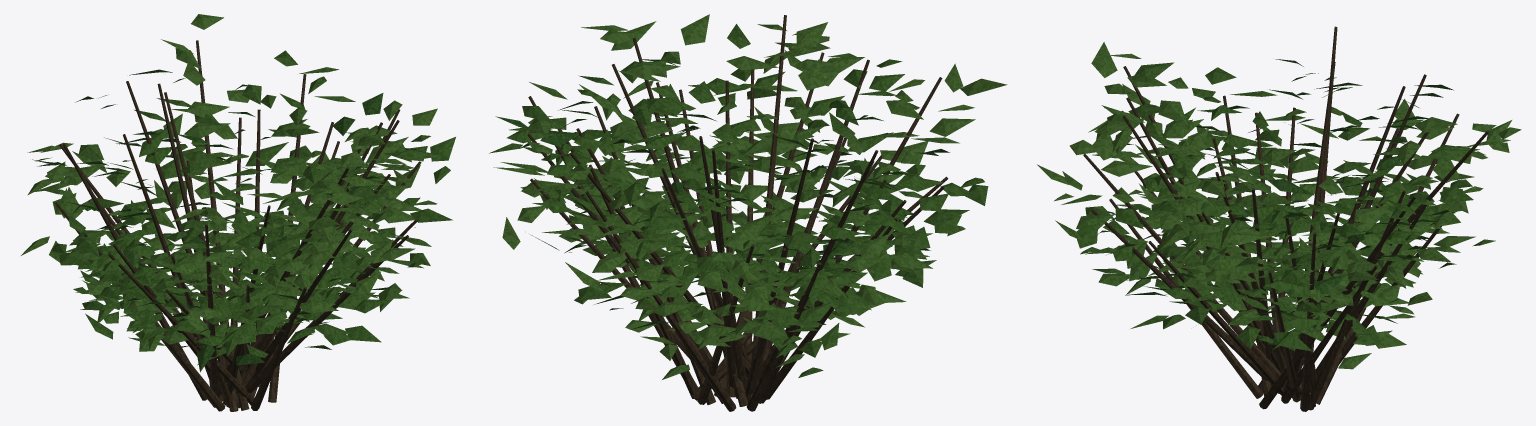
The model's file is level_camp_shrub_decorative_b.glb.
The picture shows the model from 3 angles, left to right: view 1: azimuth 30°, elevation 25°; view 2: azimuth 150°, elevation 25°; view 3: azimuth 270°, elevation 25°; orthographic projection. The views are drawn at different scales.
Visible parts, largest first — view 1: level_camp_shrub_decorative_b; view 2: level_camp_shrub_decorative_b; view 3: level_camp_shrub_decorative_b.
Boxes of the visible parts, bbox=[...] form: level_camp_shrub_decorative_b: bbox=[21, 14, 455, 411]; level_camp_shrub_decorative_b: bbox=[489, 14, 1007, 411]; level_camp_shrub_decorative_b: bbox=[1037, 26, 1521, 411].
Size of the model in its own units: 2.7 by 1.88 by 2.64.
Materials: 4 (4 with a texture image).
